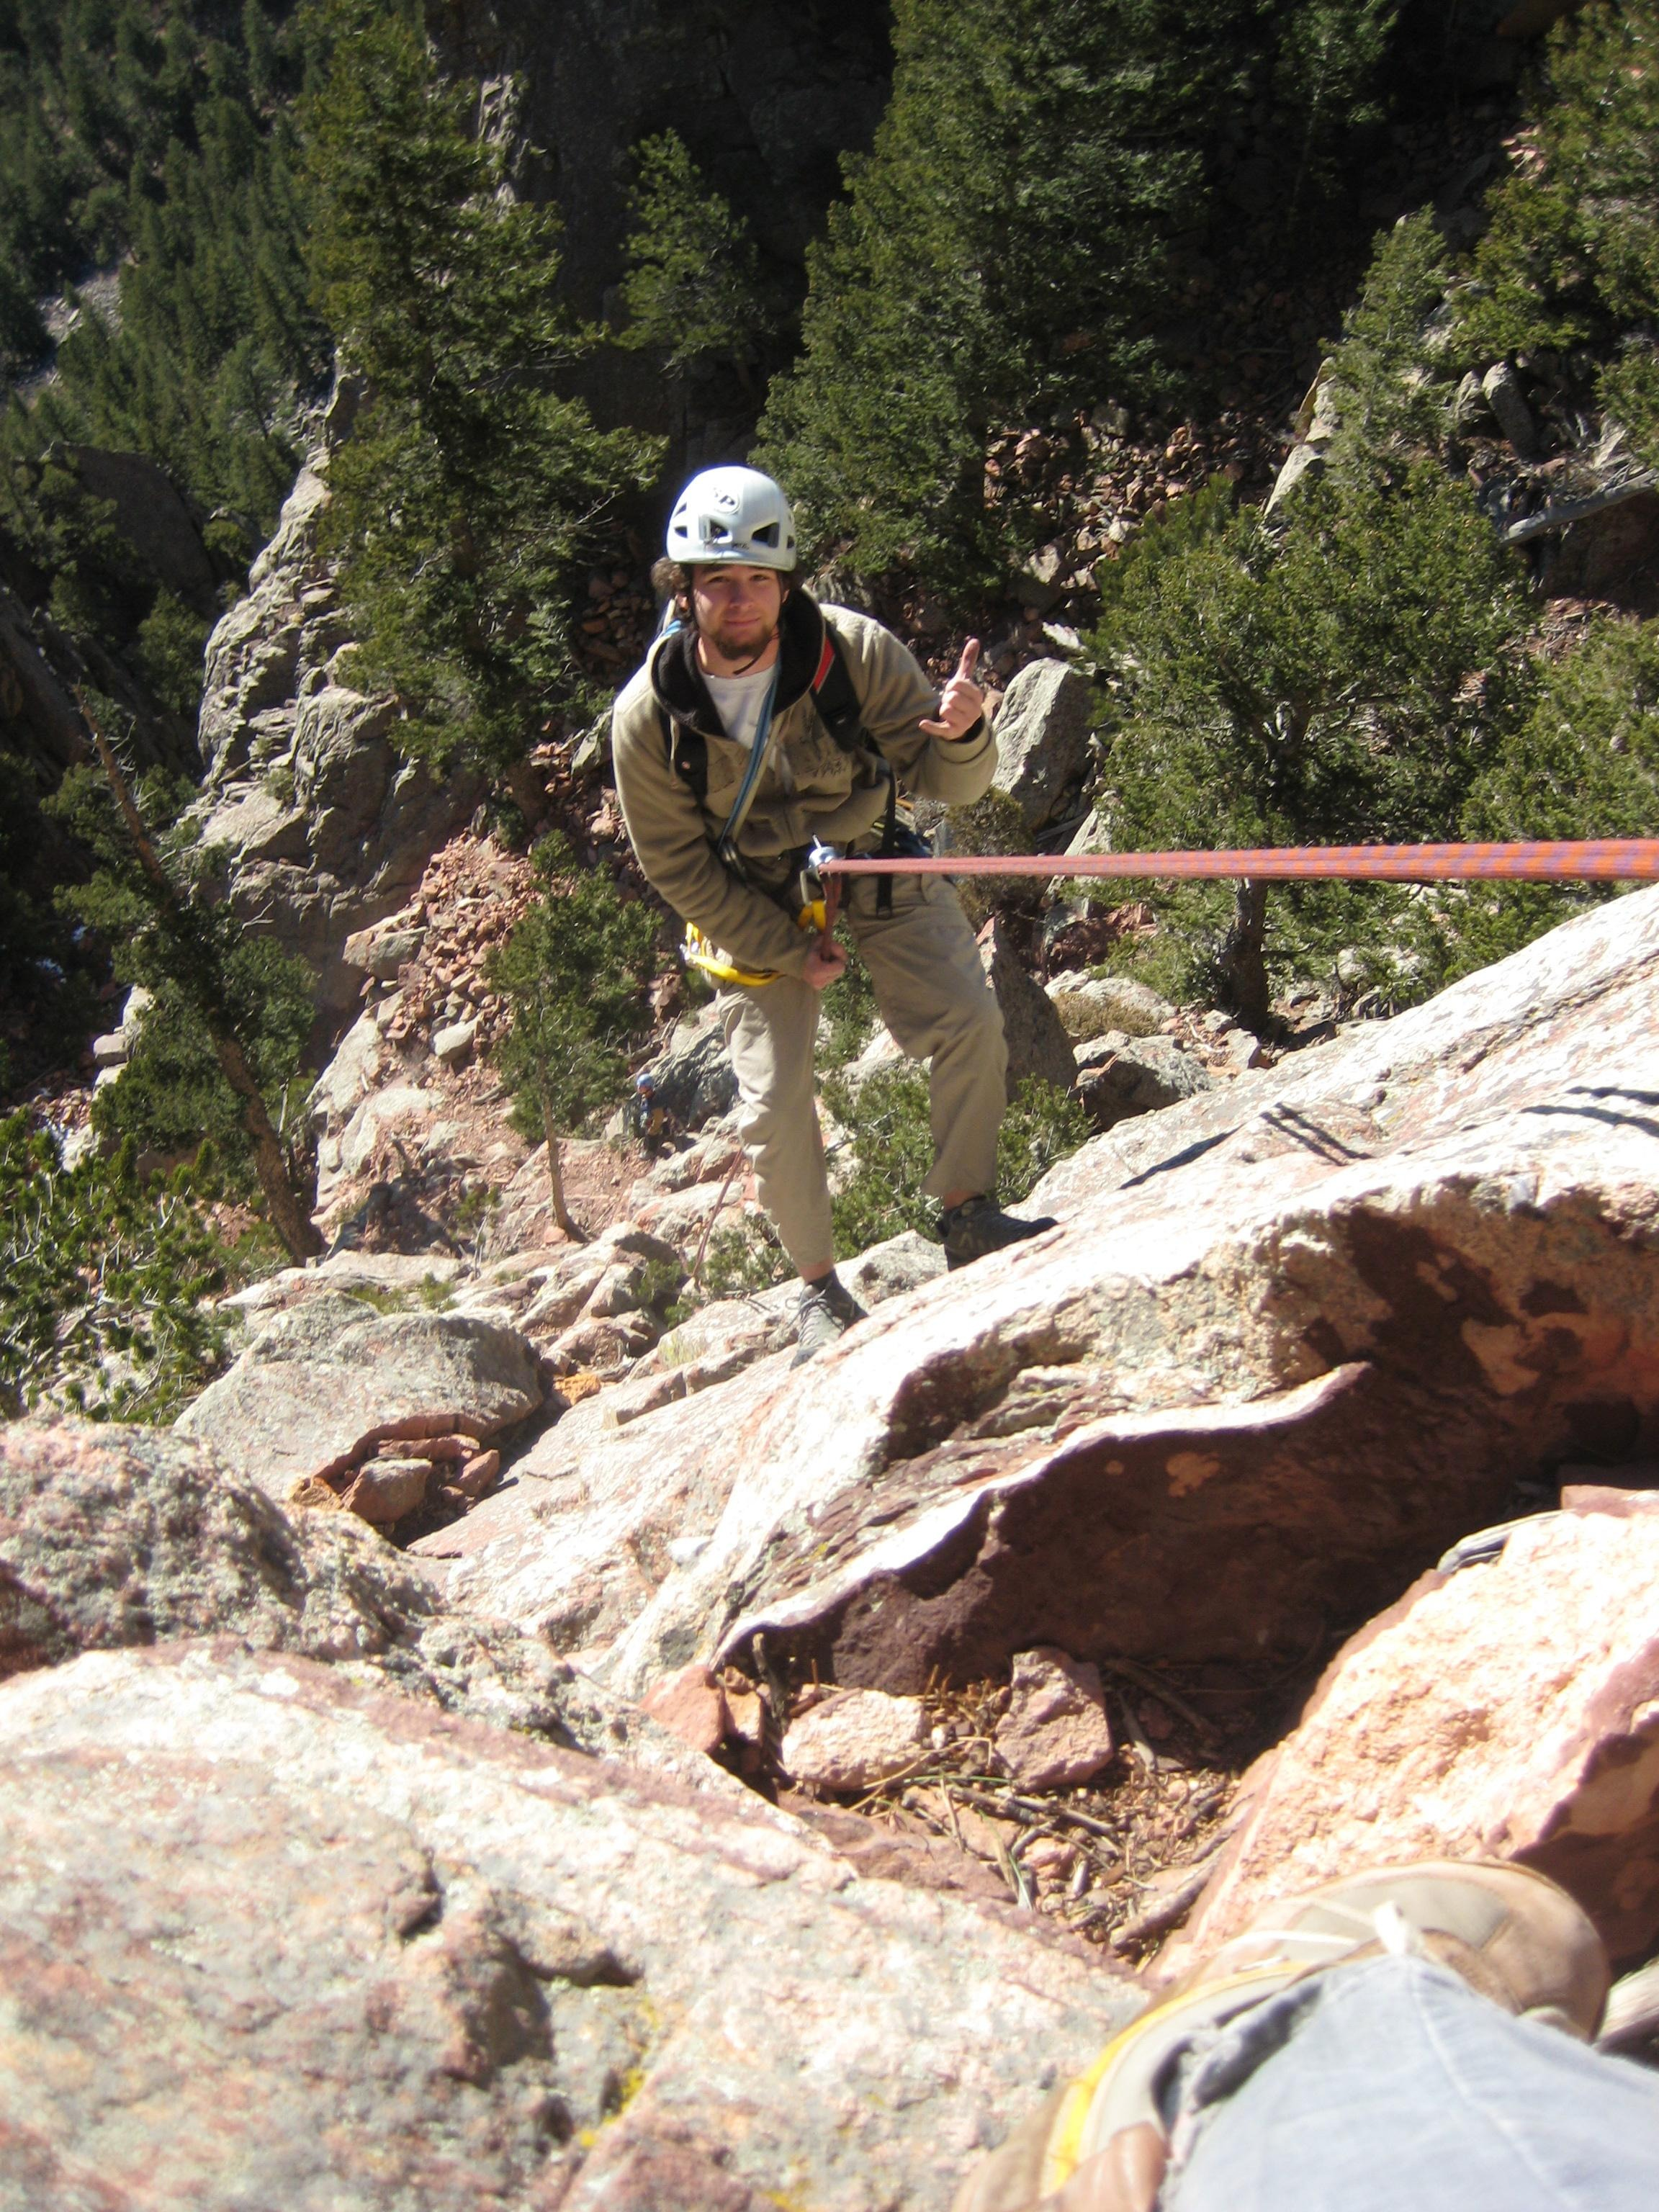helmet: (657, 458, 809, 587)
